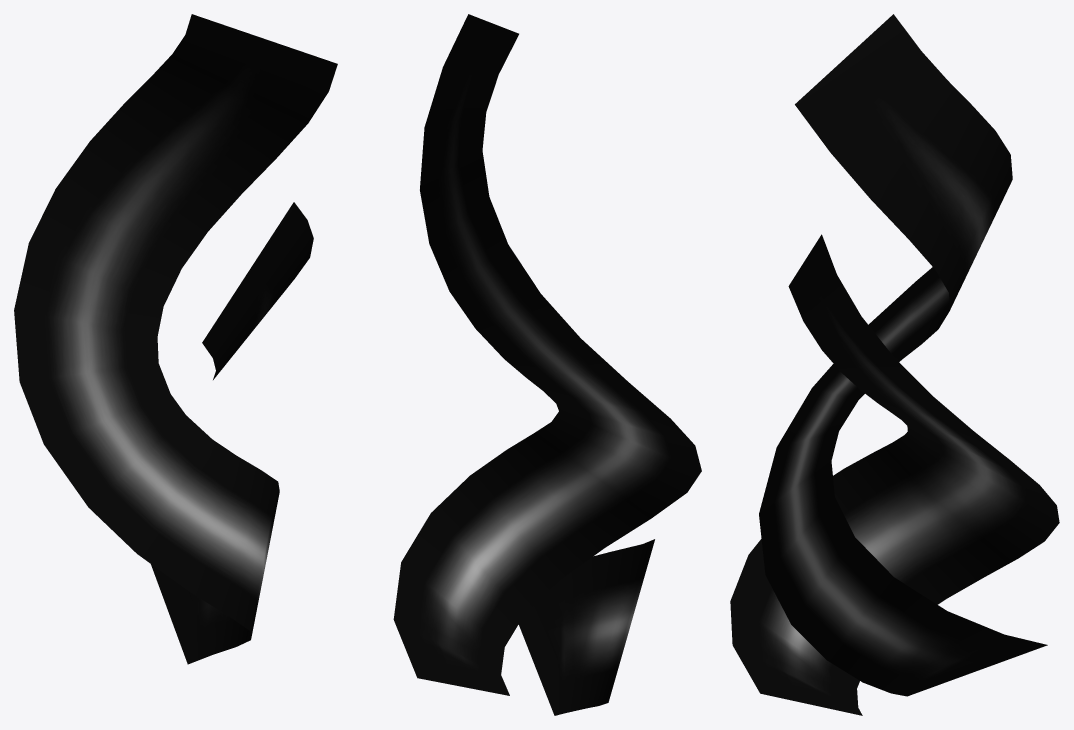
The model's file is xian_01.FBX.
3 renders of one model, left to right at view 1: azimuth 30°, elevation 25°; view 2: azimuth 150°, elevation 25°; view 3: azimuth 270°, elevation 25°, orthographic. The views are drawn at different scales.
Parts seen in each view (by area): view 1: xian_02, xian_01; view 2: xian_02, xian_01; view 3: xian_02, xian_01.
Boxes of the visible parts, x1,y1,x2,y2 form: xian_02: (14, 14, 337, 664); xian_01: (202, 202, 313, 379); xian_02: (393, 14, 701, 695); xian_01: (518, 539, 654, 715); xian_02: (759, 14, 1047, 696); xian_01: (730, 234, 1059, 715).
Bounding box in the file's own units: 203 × 469 × 196.
